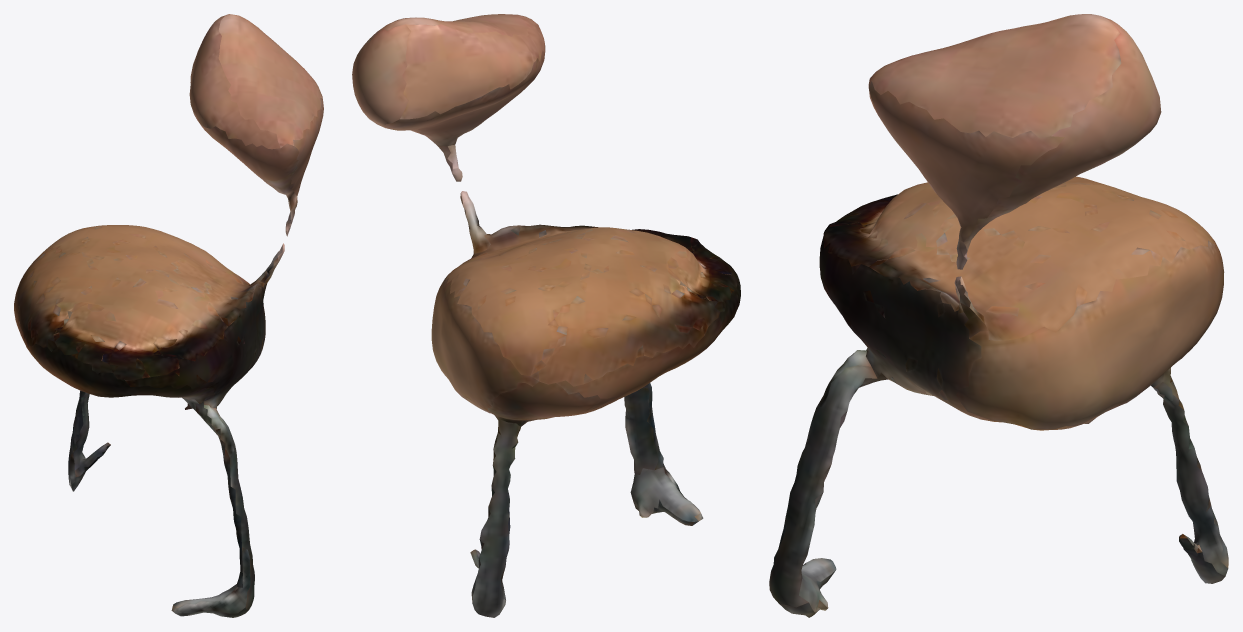
The model's file is 5_chair.glb.
3 views of the same model, side by side, from view 1: azimuth 30°, elevation 25°; view 2: azimuth 150°, elevation 25°; view 3: azimuth 270°, elevation 25° (orthographic). The views are drawn at different scales.
Parts seen in each view (by area): view 1: 5_chair; view 2: 5_chair; view 3: 5_chair.
Part boxes in pixels (x1=…): 5_chair: x1=14, y1=14, x2=323, y2=617; 5_chair: x1=352, y1=14, x2=740, y2=617; 5_chair: x1=769, y1=14, x2=1228, y2=617.
Size of the model in its own units: 0.6381 by 1.03 by 0.6438.
Materials: 1 (1 with a texture image).
